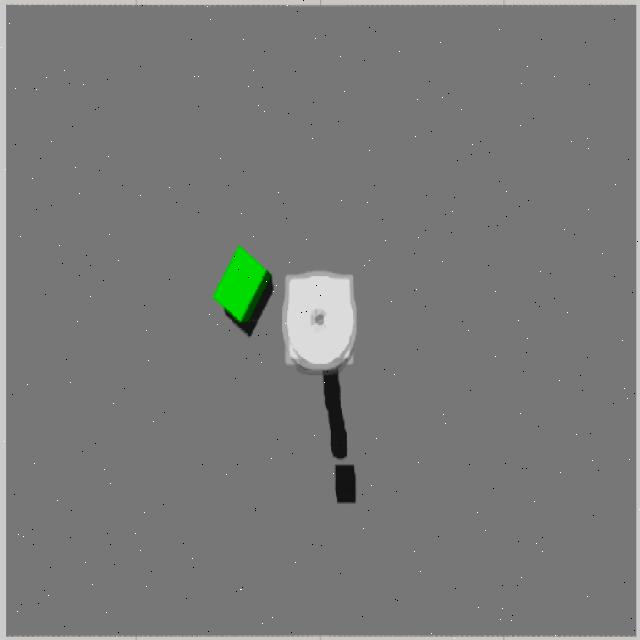box: (214, 247, 272, 335)
